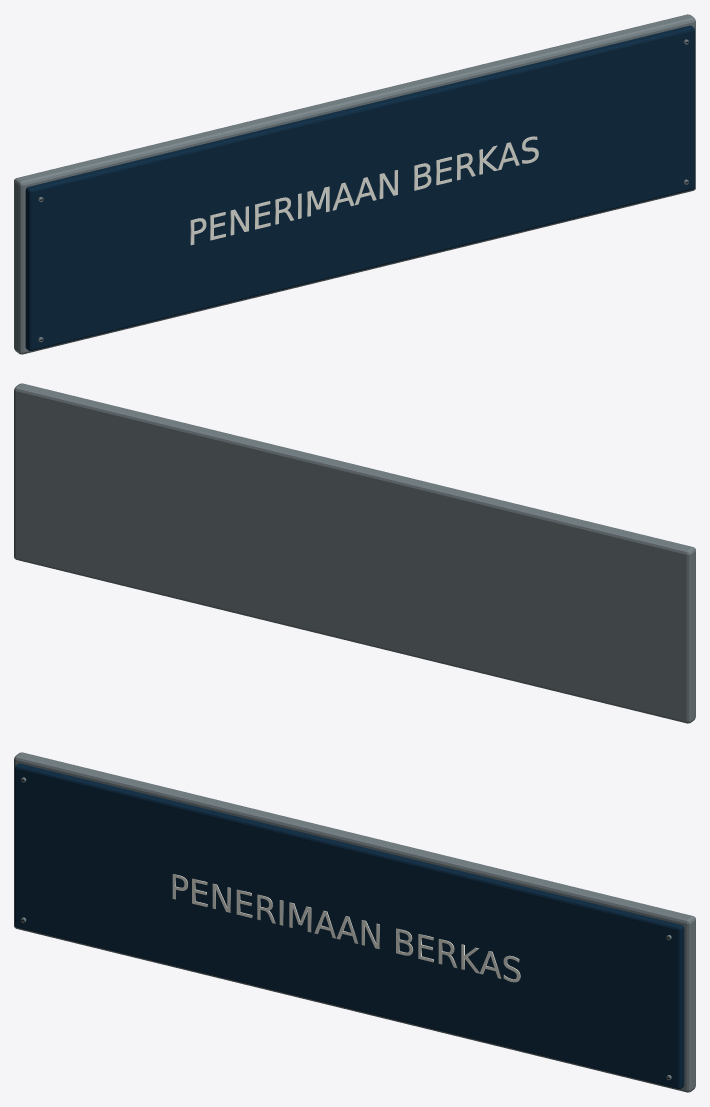
File: OAA_Papan_Ruang_Penerimaan_Berkas.fbx
3 views of the same model, one above another, from view 1: azimuth 30°, elevation 25°; view 2: azimuth 150°, elevation 25°; view 3: azimuth 330°, elevation 25° (orthographic).
Parts seen in each view (by area): view 1: Body; view 2: Body; view 3: Body.
Part boxes in pixels (left/top/right/bottom): Body: left=14, top=14, right=695, bottom=354; Body: left=14, top=383, right=695, bottom=723; Body: left=14, top=752, right=695, bottom=1092.
Size of the model in its own units: 0.9 by 0.22 by 0.0312.
